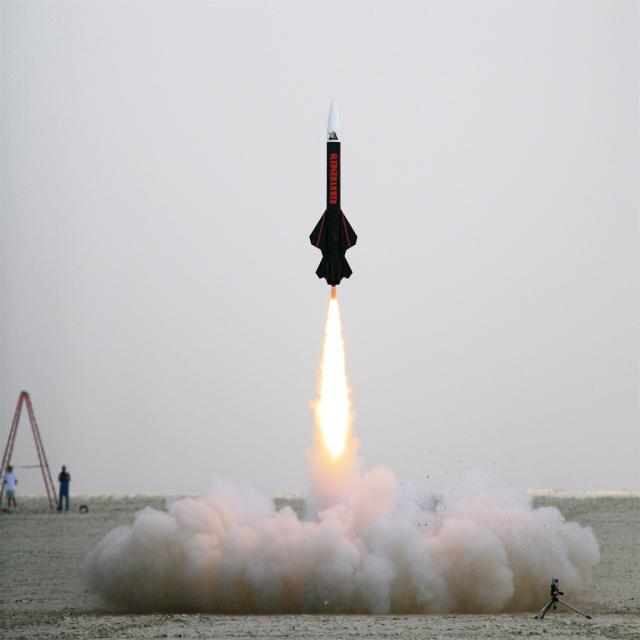rocket: (309, 95, 353, 442)
